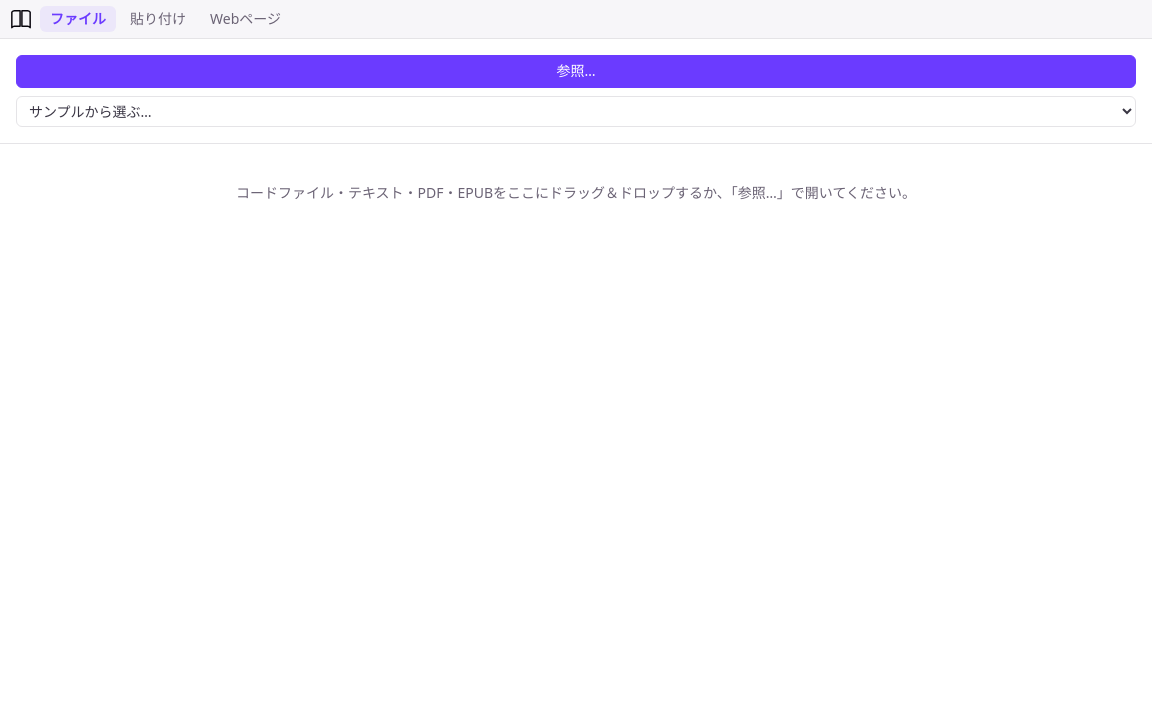
Test: keeps only one list open and preserves bookmark editing and history deletion
The image size is (1152, 720).
Click the tab "Webページ".
click(246, 19)  # box [200, 6, 291, 32]
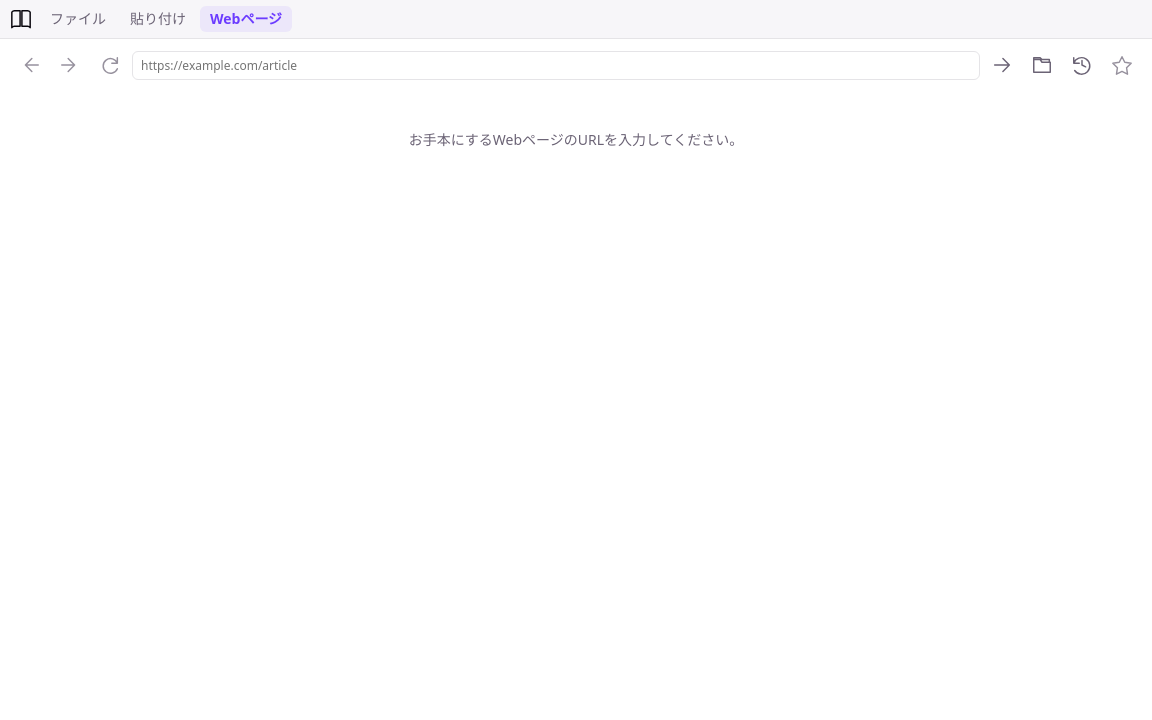
Click the button named "ブックマーク".
click(1042, 65)  # box [1024, 47, 1060, 83]
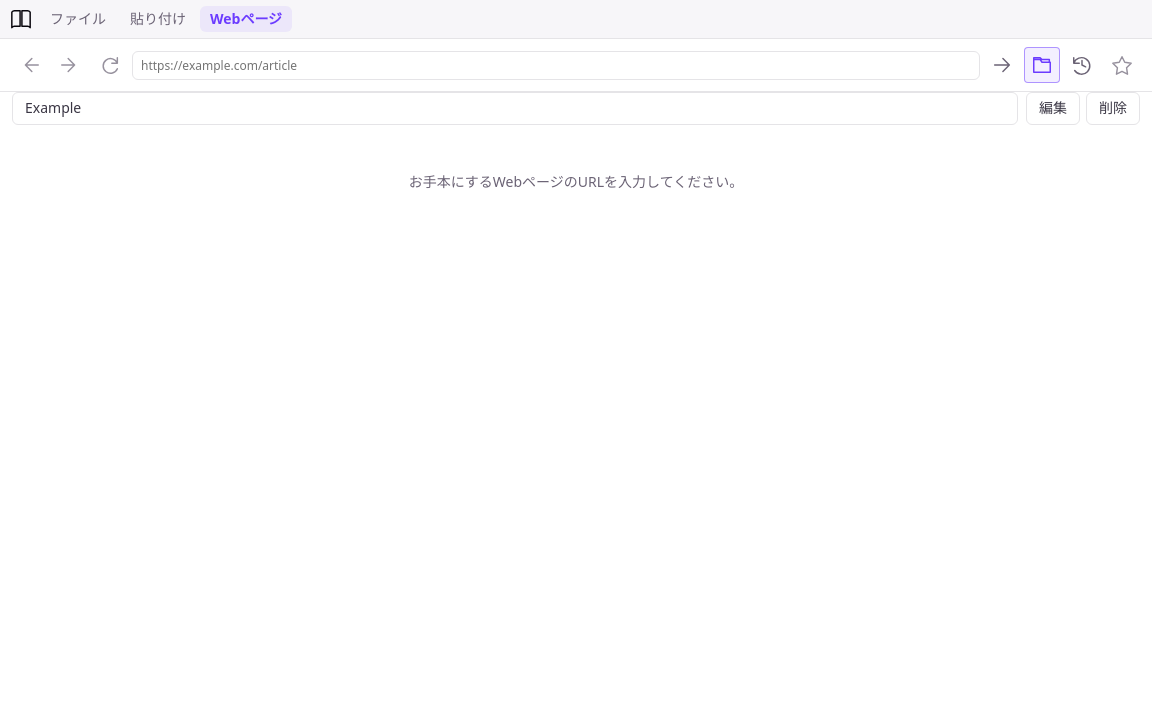
Expected: the button named "ブックマーク" is shown, [1024, 47, 1060, 83]
Click the button "編集".
click(1053, 109)  # box [1026, 92, 1080, 125]
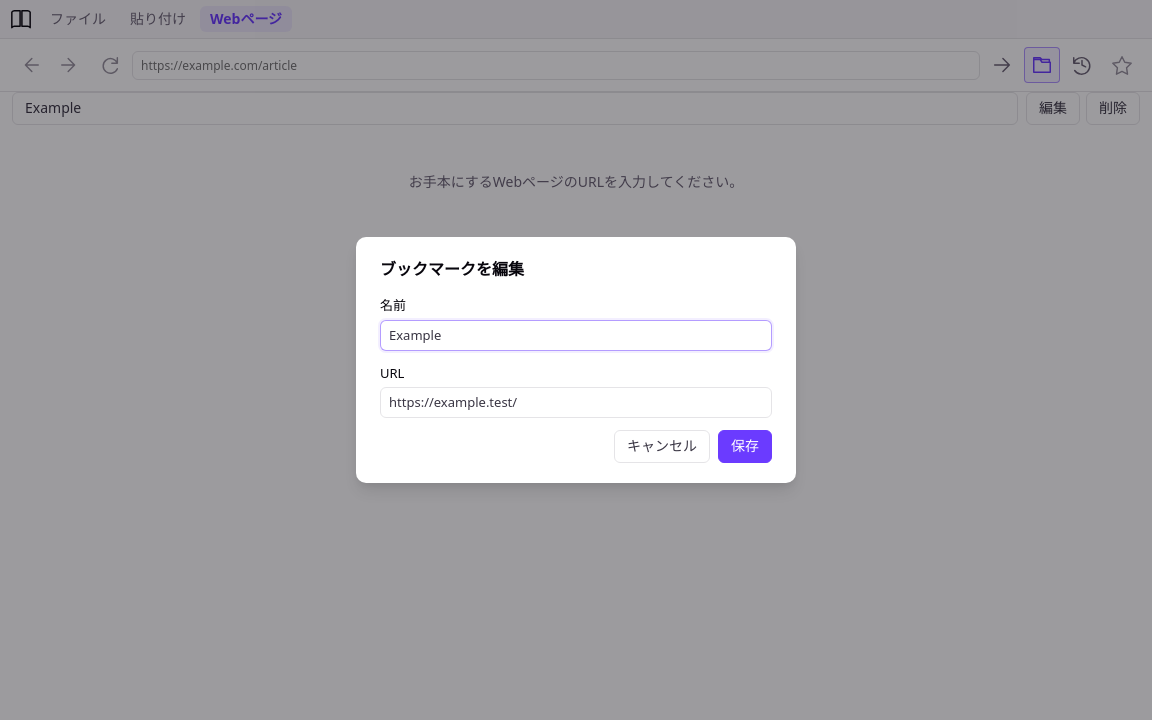
Expected: the dialog is shown, [356, 237, 796, 483]
Click the button "保存".
click(745, 446)  # box [718, 430, 772, 463]
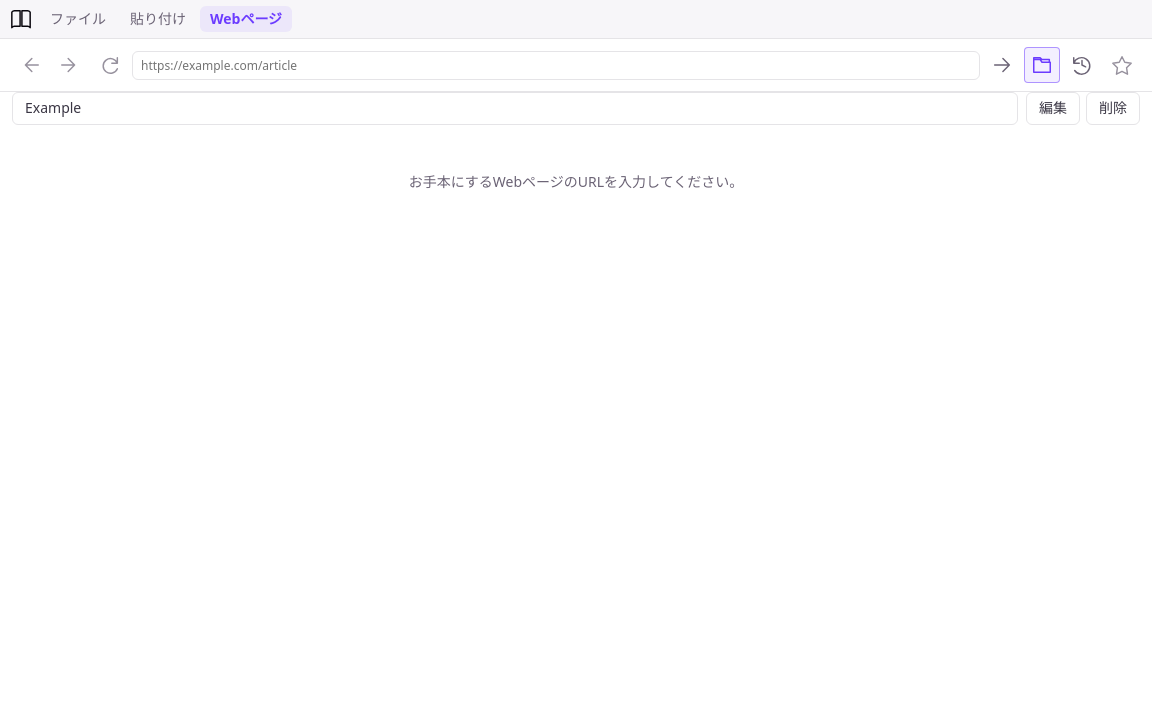
Expected: the button "Example" is shown, [12, 92, 1018, 125]
Click the button named "履歴".
click(1082, 65)  # box [1064, 47, 1100, 83]
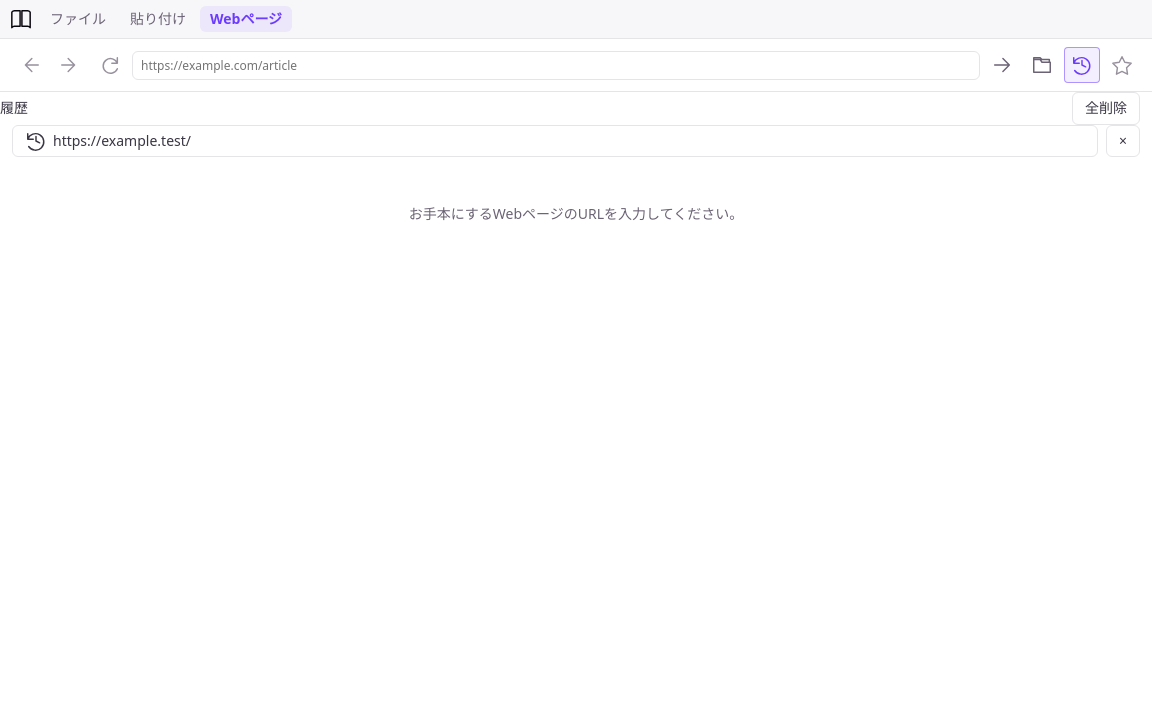
Expected: the element with id "web-bookmarks" is gone
Expected: the element with id "web-history" is shown, [0, 91, 1151, 165]
Click the button named "この履歴を削除".
click(1123, 141)  # box [1106, 125, 1140, 157]
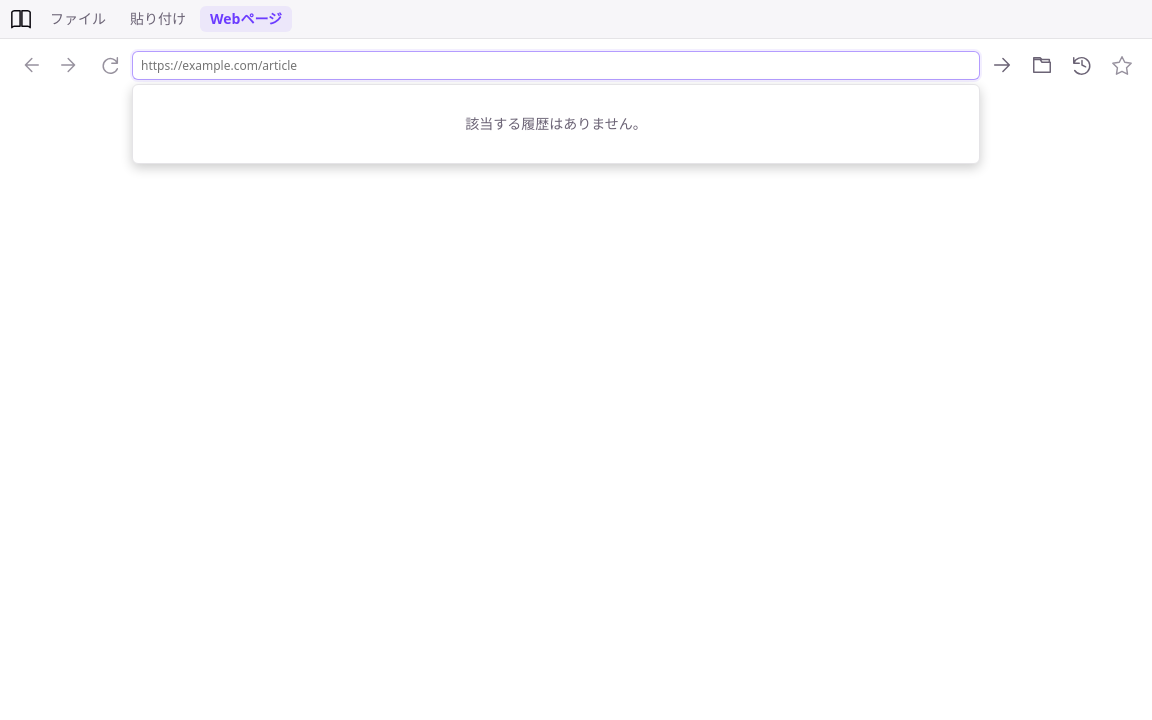
Expected: the element with id "web-history" is gone
